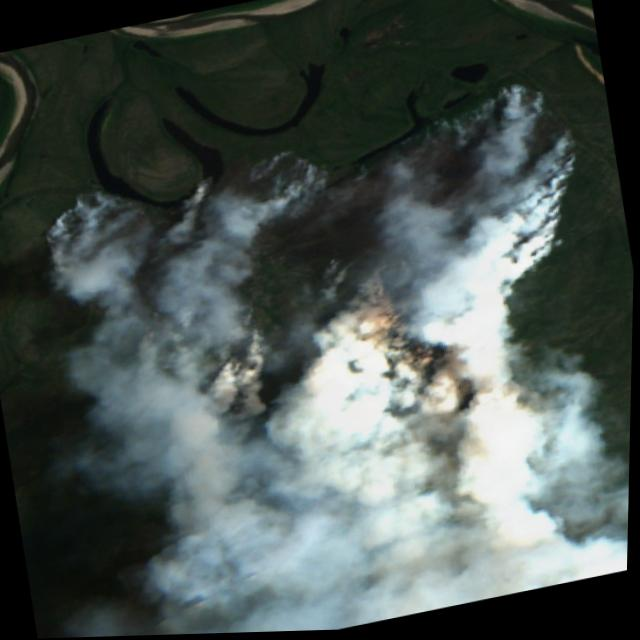fire: (8, 67, 629, 482)
